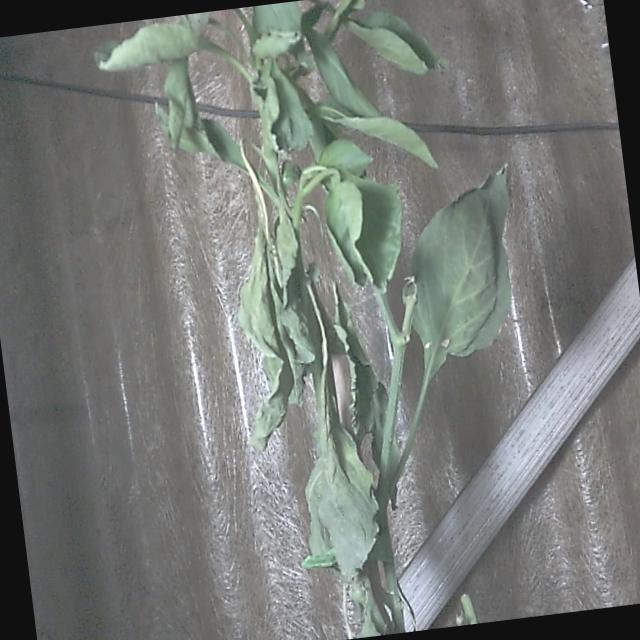Leaf: (393, 165, 532, 372), (297, 404, 389, 586), (322, 164, 404, 296), (338, 4, 441, 86)
